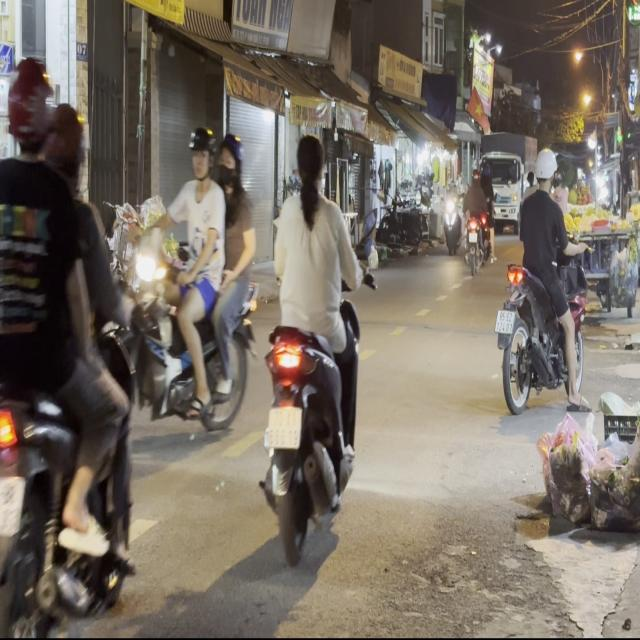helmet: (4, 54, 57, 158), (42, 97, 84, 189), (212, 131, 244, 190), (186, 124, 212, 180), (532, 146, 556, 190)
licenseplate: (0, 53, 140, 628), (257, 126, 366, 574), (122, 123, 256, 443), (493, 144, 588, 414)
motorcyclist: (293, 131, 326, 201)
nohelmet: (266, 408, 302, 450), (0, 476, 24, 533), (495, 310, 516, 332)
